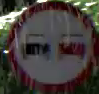No overtake: (6, 0, 95, 93)
